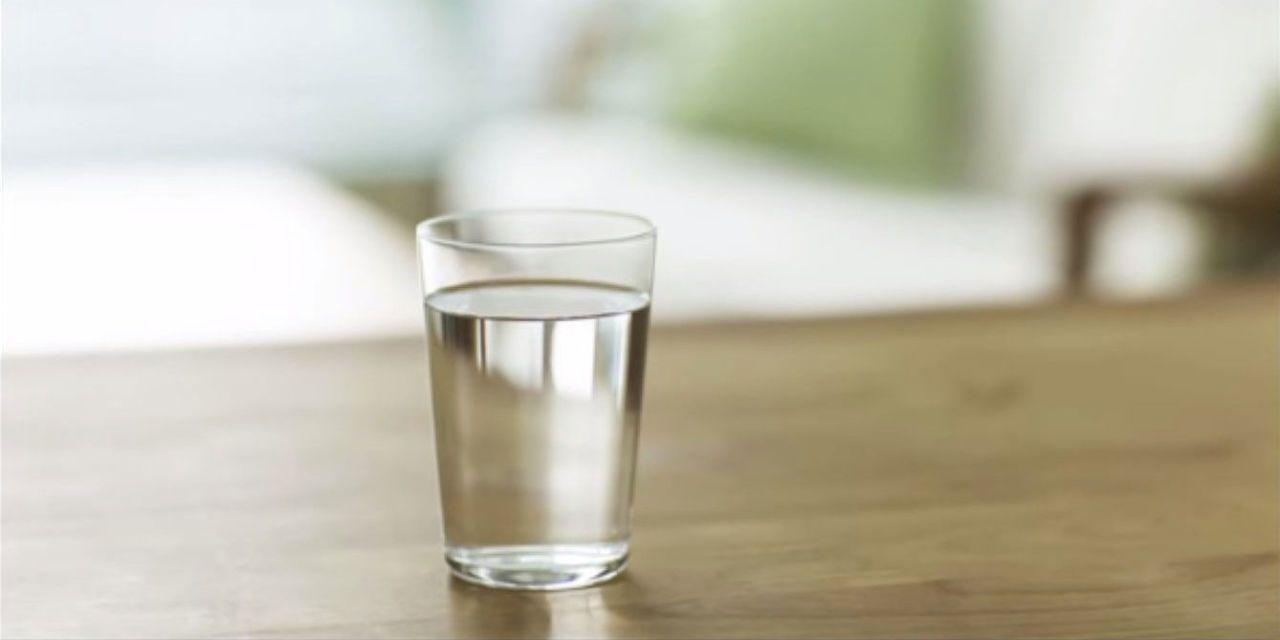glass-normal: (414, 201, 662, 592)
